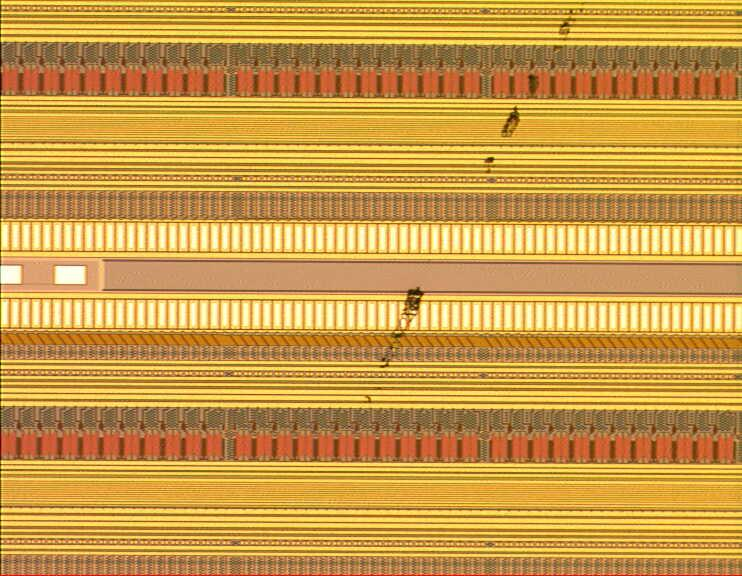SCRATCH: (341, 2, 592, 417)
